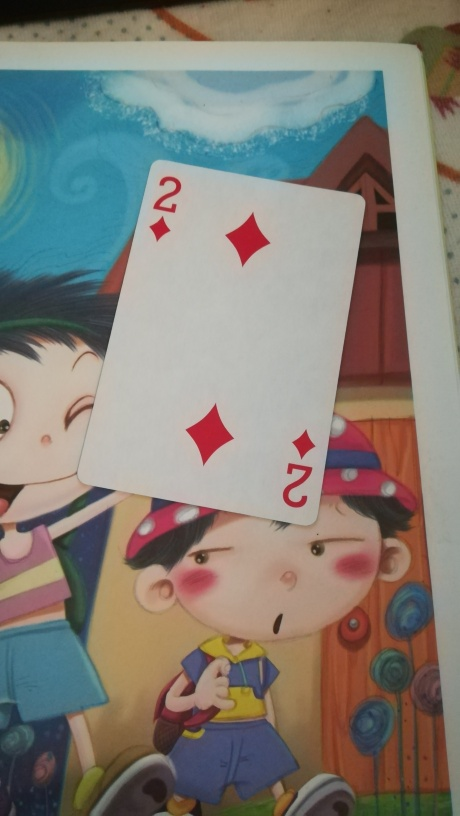fk 2: (76, 158, 364, 528)
